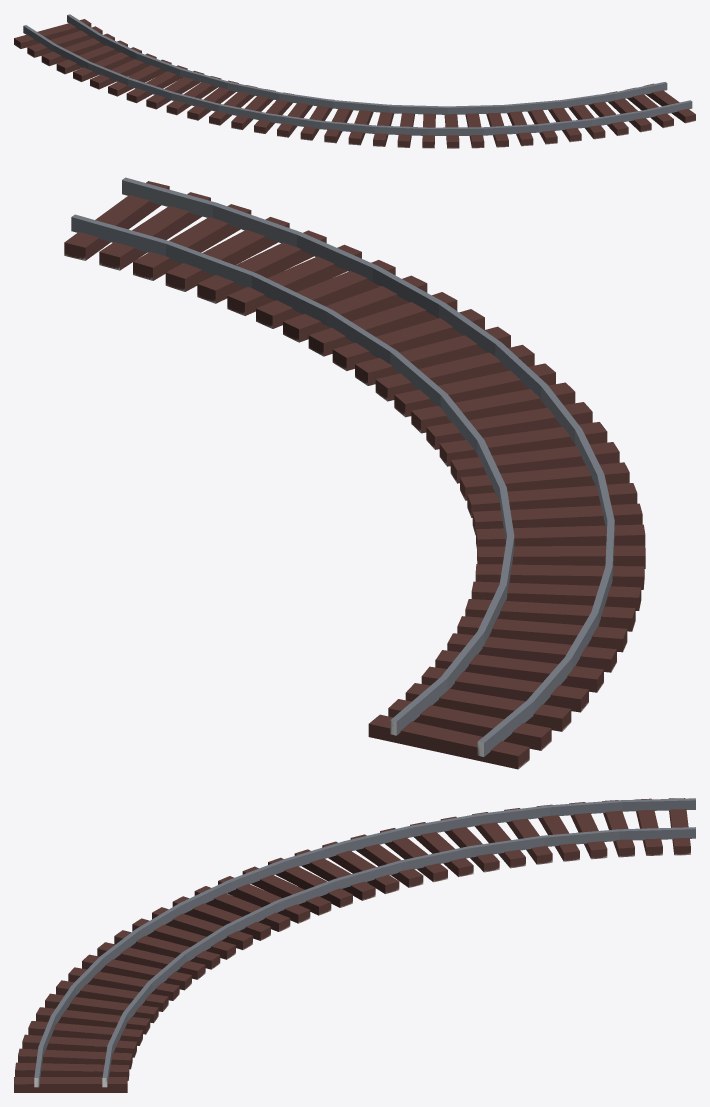
Rendered from curve-6-track.blend.glb.
The picture shows the model from 3 angles, top to bottom: view 1: azimuth 30°, elevation 25°; view 2: azimuth 150°, elevation 25°; view 3: azimuth 270°, elevation 25°; orthographic projection. The views are drawn at different scales.
Visible parts, largest first — view 1: curve-6; view 2: curve-6; view 3: curve-6.
Part boxes in pixels (x1,y1,x2,y2): curve-6: [14, 14, 695, 148]; curve-6: [64, 177, 645, 769]; curve-6: [14, 798, 695, 1092].
Size of the model in its own units: 12.01 by 0.3391 by 12.
Materials: 1 (1 with a texture image).
